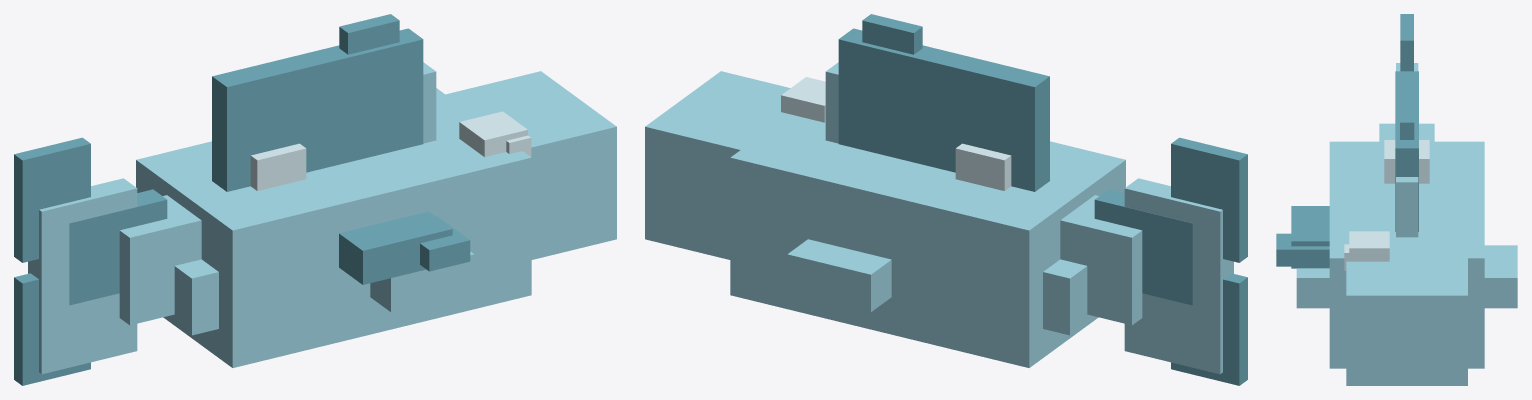
Rendered from fish_crystal_sound.glb.
3 renders of one model, left to right at view 1: azimuth 30°, elevation 25°; view 2: azimuth 150°, elevation 25°; view 3: azimuth 270°, elevation 25°, orthographic. The views are drawn at different scales.
Parts seen in each view (by area): view 1: FishArt_body, FishArt_dorsal, FishArt_tail, FishArt_pectoral, FishArt_eye, FishArt_specialty; view 2: FishArt_body, FishArt_dorsal, FishArt_tail, FishArt_specialty, FishArt_eye; view 3: FishArt_body, FishArt_pectoral, FishArt_dorsal, FishArt_eye, FishArt_specialty, FishArt_tail.
Part boxes in pixels (x1,y1,x2,y2): FishArt_body: (28,62,616,374); FishArt_dorsal: (212,14,423,191); FishArt_tail: (14,137,167,385); FishArt_pectoral: (339,211,470,284); FishArt_eye: (459,111,531,156); FishArt_specialty: (250,143,306,190); FishArt_body: (645,62,1233,374); FishArt_dorsal: (838,14,1049,191); FishArt_tail: (1094,137,1247,385); FishArt_specialty: (955,143,1011,190); FishArt_eye: (781,77,825,122); FishArt_body: (1296,63,1517,385); FishArt_pectoral: (1276,206,1329,268); FishArt_dorsal: (1395,71,1418,231); FishArt_eye: (1344,231,1389,270); FishArt_specialty: (1384,140,1429,183); FishArt_tail: (1400,14,1413,71).
Size of the model in its own units: 0.3091 by 0.1442 by 0.1439.
